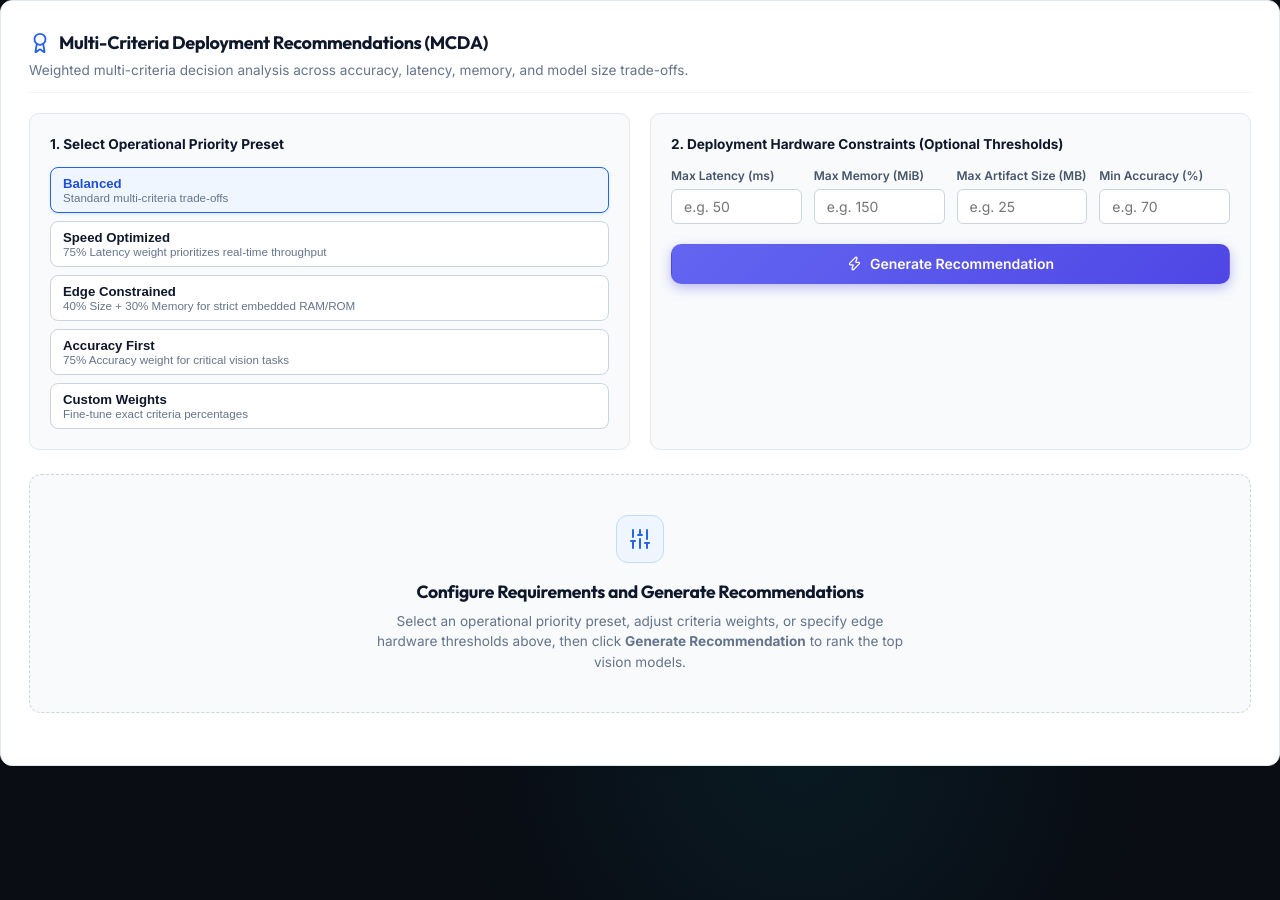
Scenario: Recommendations Component › renders No Eligible Model Found banner when zero candidates qualify
The image size is (1280, 900).
Click the button "Generate Recommendation". click: (950, 264)
box: left=671, top=244, right=1230, bottom=284
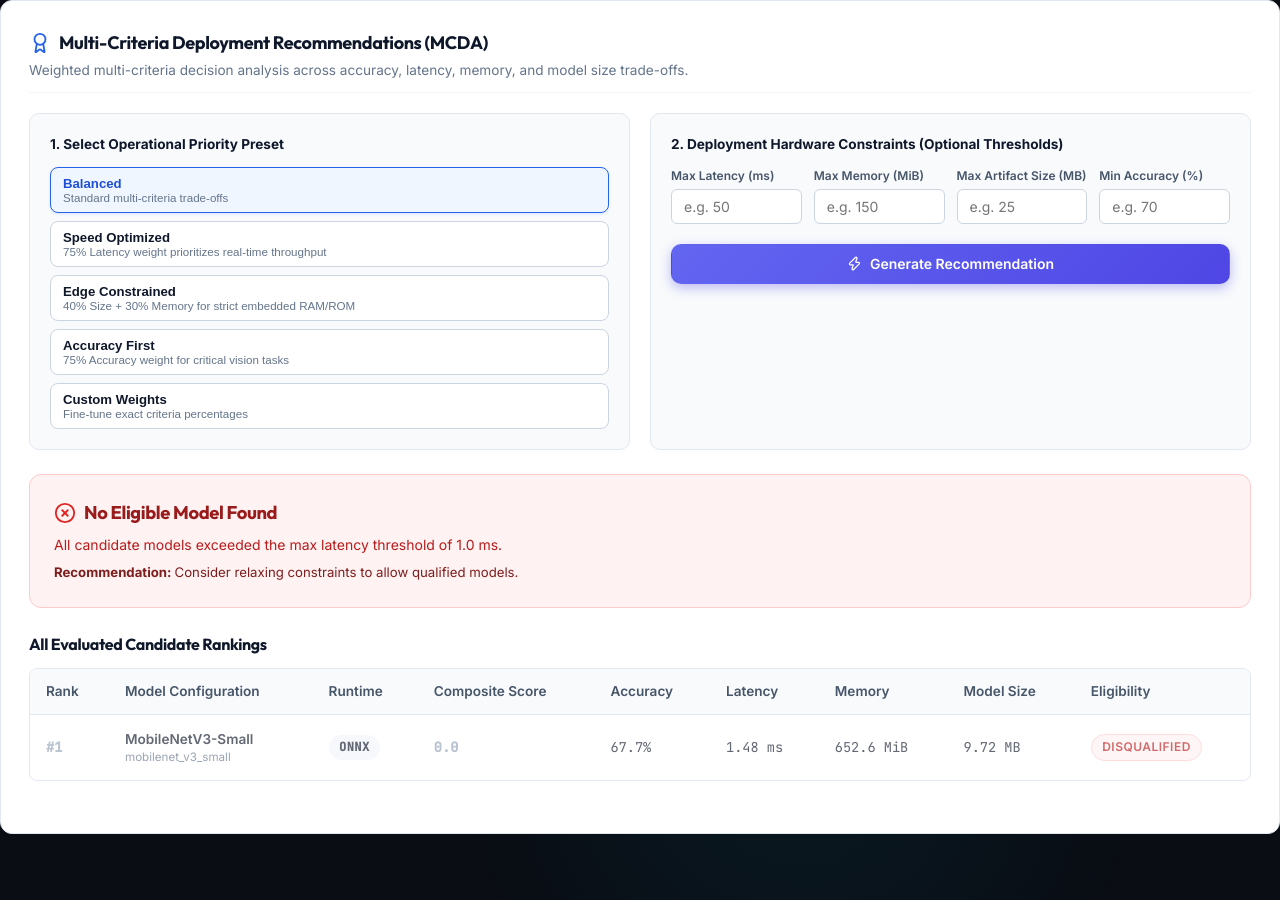
Now the heading "No Eligible Model Found" is shown, box left=84, top=499, right=277, bottom=526
Now the text "exceeded the max latency threshold" is shown, box left=54, top=536, right=502, bottom=553
